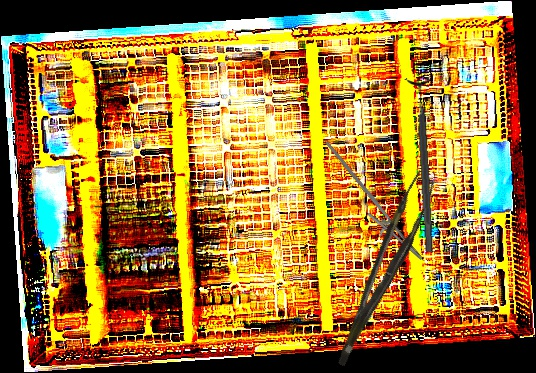Fixation Ring: (403, 76, 444, 254)
Needle Holder: (304, 140, 436, 269)
Tissue Forceps: (314, 170, 448, 367)
